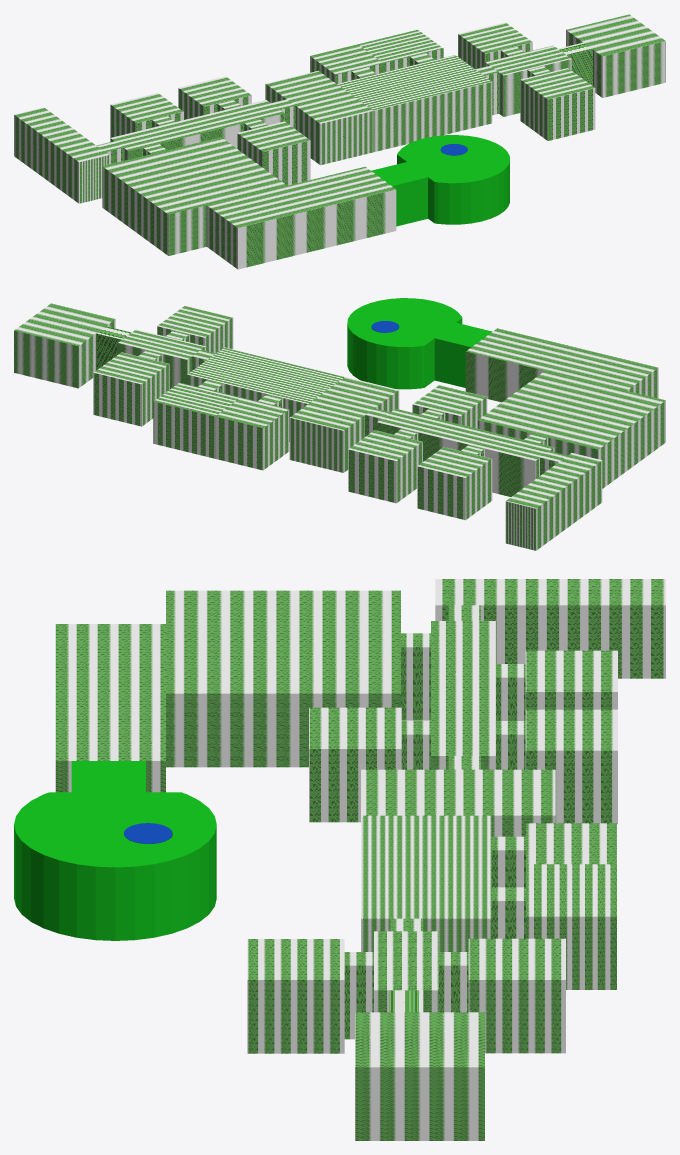
The model's file is escenaNivel1.obj.
3 views of the same model, one above another, from view 1: azimuth 30°, elevation 25°; view 2: azimuth 150°, elevation 25°; view 3: azimuth 270°, elevation 25° (orthographic). The views are drawn at different scales.
Parts seen in each view (by area): view 1: Cube_Cube.004; view 2: Cube_Cube.004; view 3: Cube_Cube.004.
Boxes of the visible parts, bbox=[...] form: Cube_Cube.004: bbox=[14, 14, 665, 269]; Cube_Cube.004: bbox=[14, 298, 665, 550]; Cube_Cube.004: bbox=[14, 579, 665, 1140].
Bounding box in the file's own units: 123 × 8.66 × 69.29.
